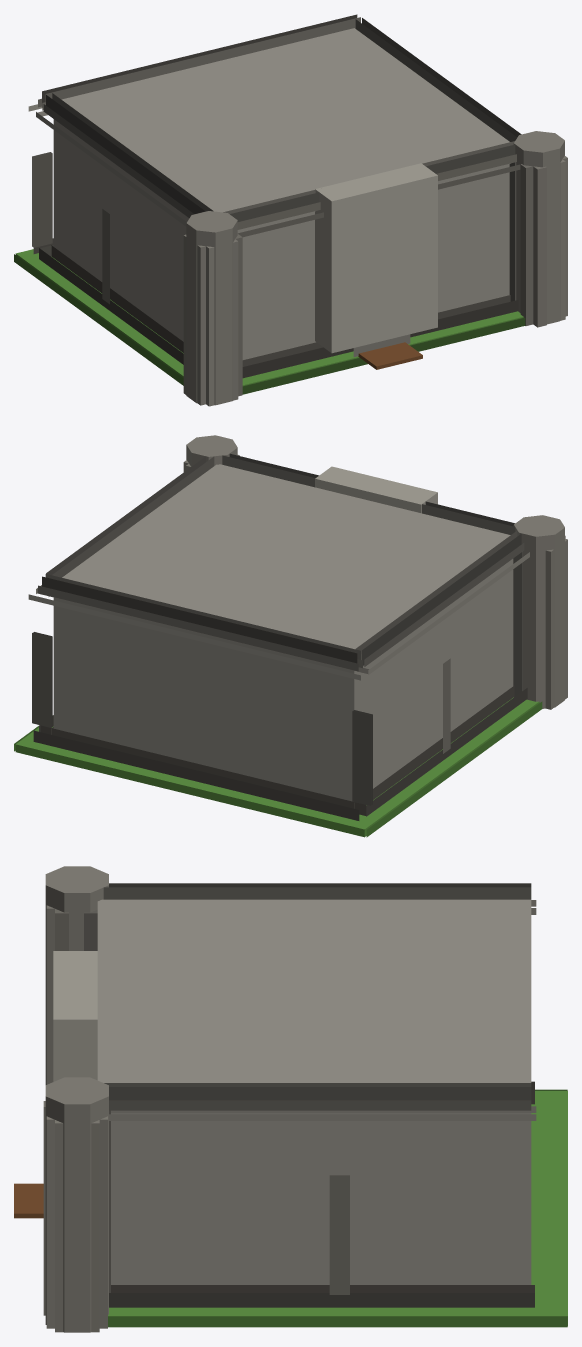
File: RatKnightSil.fbx
3 views of the same model, one above another, from view 1: azimuth 30°, elevation 25°; view 2: azimuth 150°, elevation 25°; view 3: azimuth 270°, elevation 25° (orthographic). The views are drawn at different scales.
Visible parts, largest first — view 1: KN_S_All; view 2: KN_S_All; view 3: KN_S_All.
Part boxes in pixels (bbox=[...]): KN_S_All: bbox=[14, 14, 567, 406]; KN_S_All: bbox=[14, 435, 567, 837]; KN_S_All: bbox=[14, 866, 567, 1332].
Size of the model in its own units: 44.43 by 19.9 by 43.74.
